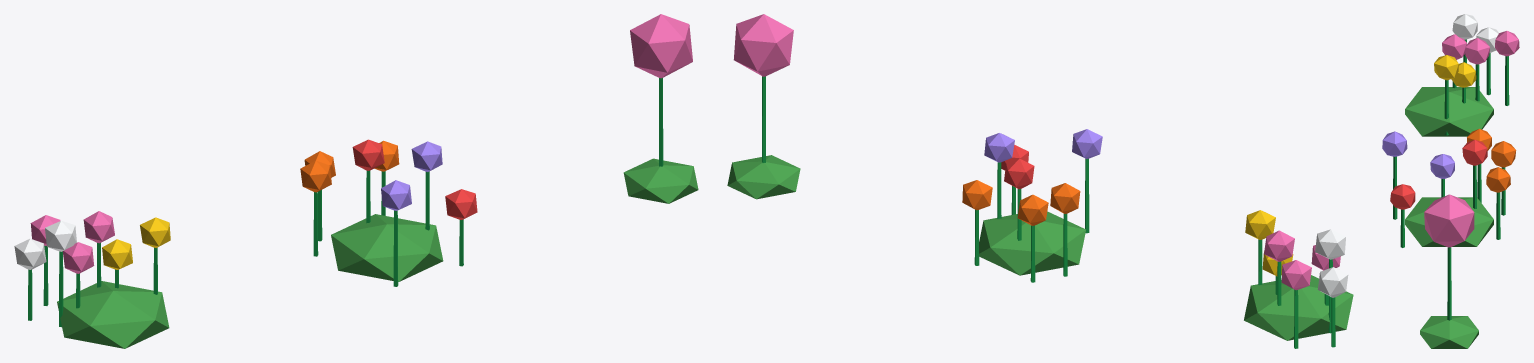
File: bunga_v001.glb
3 renders of one model, left to right at view 1: azimuth 30°, elevation 25°; view 2: azimuth 150°, elevation 25°; view 3: azimuth 270°, elevation 25°, orthographic. The views are drawn at different scales.
Visible parts, largest first — view 1: Bunga_A, Bunga_B, Bunga_C; view 2: Bunga_B, Bunga_A, Bunga_C; view 3: Bunga_A, Bunga_B, Bunga_C.
Part boxes in pixels (x1,y1,x2,y2): Bunga_A: (14,211,170,348); Bunga_B: (300,139,477,286); Bunga_C: (623,14,698,203); Bunga_B: (962,129,1102,282); Bunga_A: (1244,210,1353,348); Bunga_C: (727,14,800,199); Bunga_A: (1405,14,1519,136); Bunga_B: (1382,128,1516,247); Bunga_C: (1420,194,1478,348).
Bounding box in the file's own units: 4.29 × 1.2 × 0.9451.
